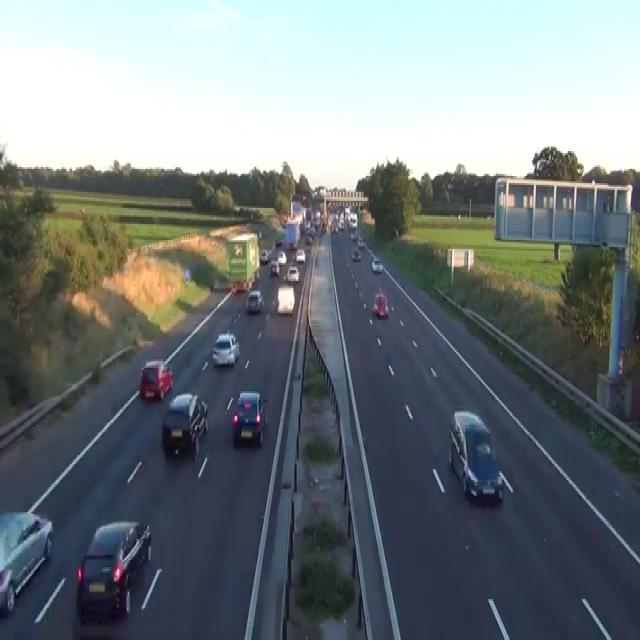Car: (76, 519, 151, 622), (0, 508, 53, 614), (448, 409, 503, 505), (161, 391, 208, 457), (232, 389, 265, 446), (139, 359, 173, 400), (212, 332, 239, 367), (276, 284, 295, 314), (245, 290, 263, 313), (373, 292, 388, 316), (285, 265, 299, 283), (371, 256, 383, 272), (269, 260, 279, 276), (351, 247, 361, 261), (296, 249, 305, 263), (259, 249, 268, 263), (277, 251, 286, 265), (183, 266, 190, 284), (349, 231, 358, 242), (305, 233, 313, 243), (311, 219, 319, 229), (267, 247, 273, 260), (331, 222, 338, 233), (357, 237, 364, 247), (275, 238, 283, 246), (339, 219, 344, 229), (258, 230, 262, 238)
Truck: (225, 231, 260, 292), (285, 217, 300, 249)
